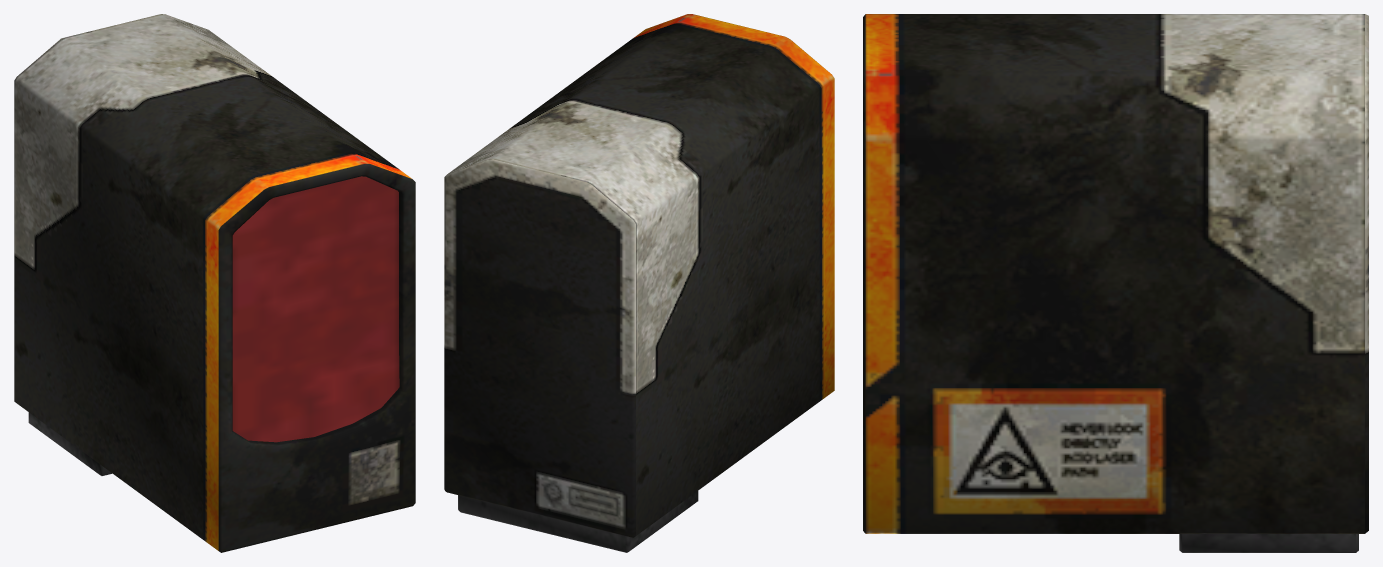
File: lasersensor_body.DAE
The picture shows the model from 3 angles, left to right: view 1: azimuth 30°, elevation 25°; view 2: azimuth 150°, elevation 25°; view 3: azimuth 270°, elevation 25°; orthographic projection. The views are drawn at different scales.
Parts seen in each view (by area): view 1: lasersensor_body__2_, lasersensor_glass__2_; view 2: lasersensor_body__2_; view 3: lasersensor_body__2_.
Part boxes in pixels (x1,y1,x2,y2): lasersensor_body__2_: (14, 14, 415, 552); lasersensor_glass__2_: (232, 176, 399, 442); lasersensor_body__2_: (444, 14, 834, 552); lasersensor_body__2_: (863, 14, 1368, 552).
Bounding box in the file's own units: 0.275 × 0.4997 × 0.5.
